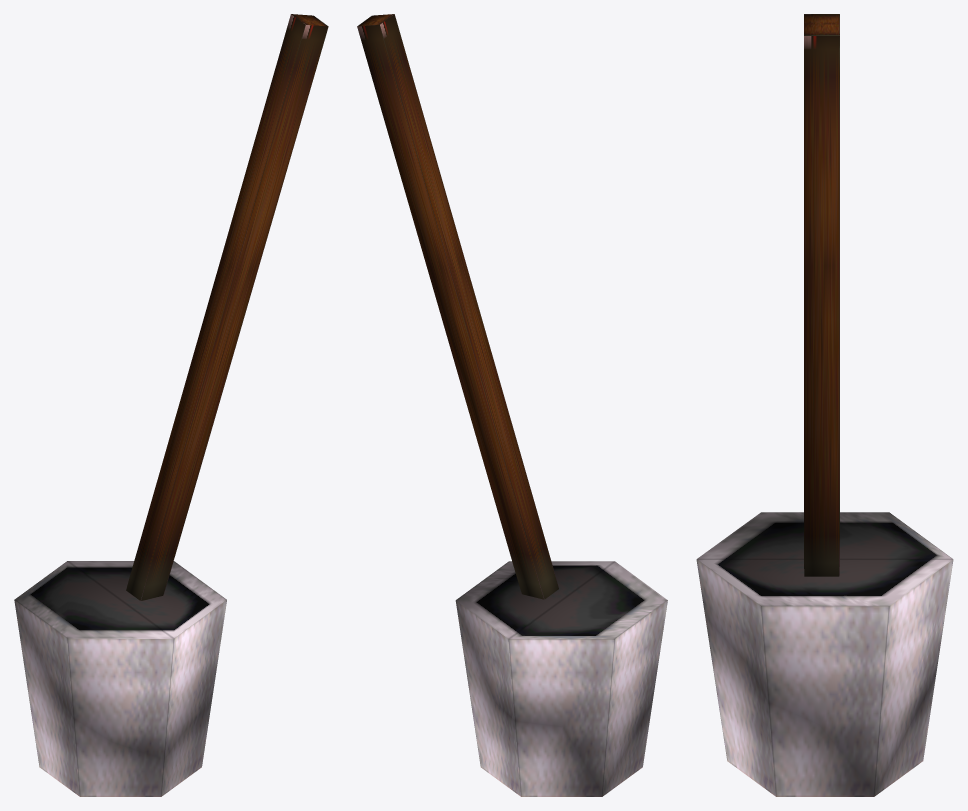
The picture shows the model from 3 angles, left to right: view 1: azimuth 30°, elevation 25°; view 2: azimuth 150°, elevation 25°; view 3: azimuth 270°, elevation 25°; orthographic projection. The views are drawn at different scales.
Parts seen in each view (by area): view 1: T1L4M009_12; view 2: T1L4M009_12; view 3: T1L4M009_12.
Part boxes in pixels (left/top/right/bottom): T1L4M009_12: left=14, top=14, right=328, bottom=796; T1L4M009_12: left=357, top=14, right=667, bottom=796; T1L4M009_12: left=696, top=14, right=953, bottom=796.
Size of the model in its own units: 0.751 by 1.82 by 0.4971.
